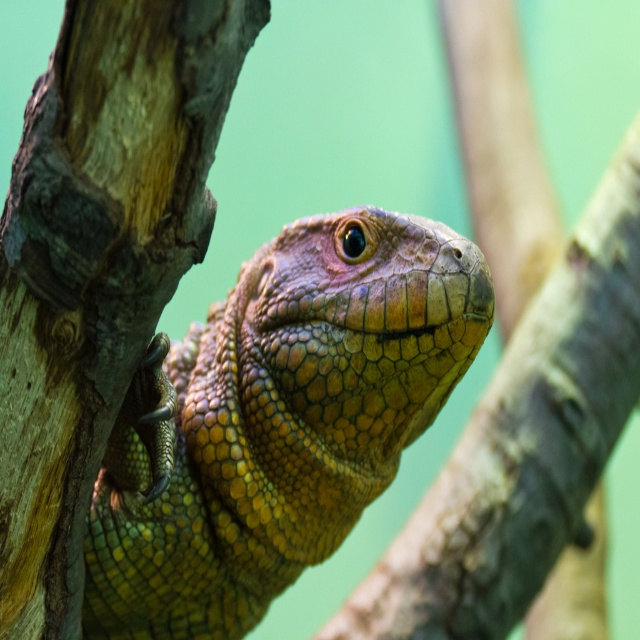Lizard: (90, 203, 494, 636)
